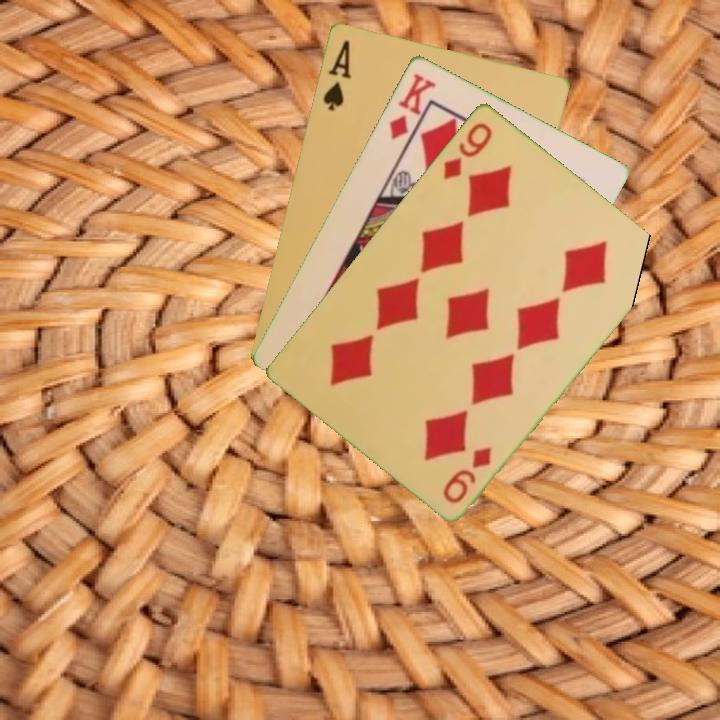9d: (439, 118, 496, 183), (439, 442, 495, 506)
As: (318, 36, 354, 113)
Kd: (385, 68, 439, 142)
